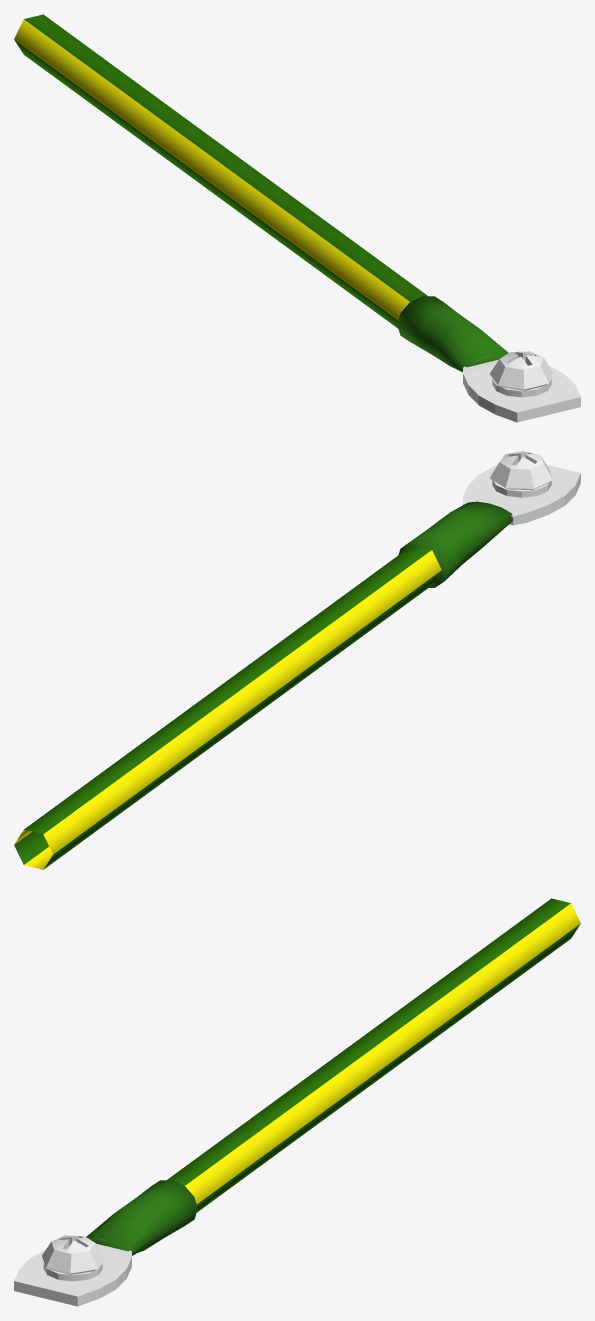
Rendered from Kabel NYA.fbx.
The picture shows the model from 3 angles, top to bottom: view 1: azimuth 30°, elevation 25°; view 2: azimuth 150°, elevation 25°; view 3: azimuth 330°, elevation 25°; orthographic projection.
Visible parts, largest first — view 1: NurbsPath, Cylinder.002, Cube, Sphere; view 2: NurbsPath, Cylinder.002, Cube, Sphere; view 3: NurbsPath, Cylinder.002, Cube, Sphere.
Part boxes in pixels (left/top/right/bottom): NurbsPath: left=14, top=14, right=427, bottom=328; Cylinder.002: left=397, top=296, right=508, bottom=372; Cube: left=463, top=359, right=580, bottom=422; Sphere: left=489, top=351, right=552, bottom=390; NurbsPath: left=14, top=545, right=441, bottom=869; Cylinder.002: left=398, top=501, right=513, bottom=587; Cube: left=463, top=465, right=580, bottom=525; Sphere: left=490, top=451, right=552, bottom=490; NurbsPath: left=167, top=898, right=580, bottom=1212; Cylinder.002: left=86, top=1180, right=197, bottom=1255; Cube: left=14, top=1243, right=131, bottom=1306; Sphere: left=42, top=1235, right=105, bottom=1274.
Bounding box in the file's own units: 2.2 × 1.46 × 22.77.
Materials: 2 (2 with a texture image).
